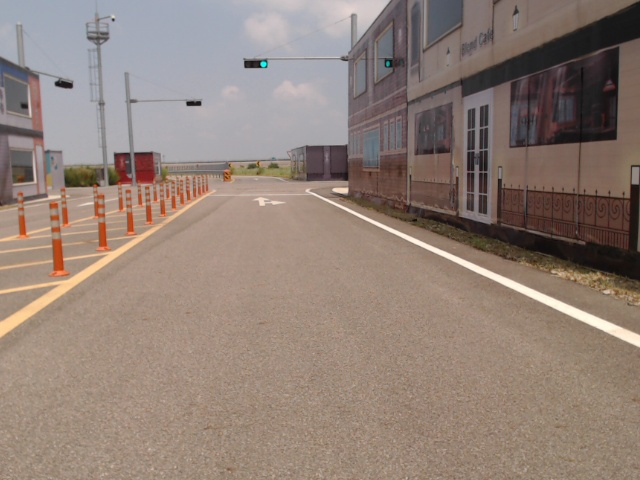green_3: (244, 60, 268, 69)
